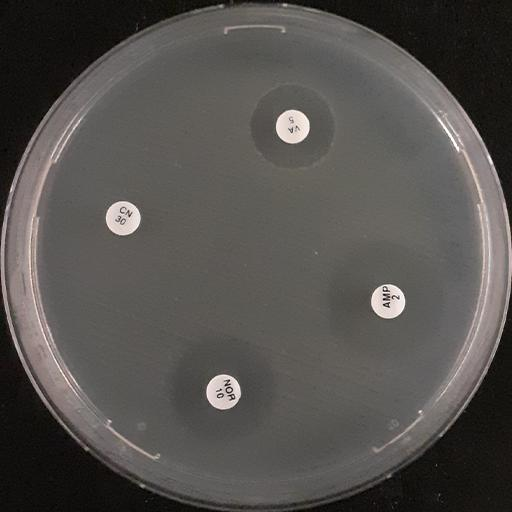disc: (206, 374, 241, 410), (275, 109, 310, 144), (371, 284, 406, 319), (106, 201, 141, 236)
